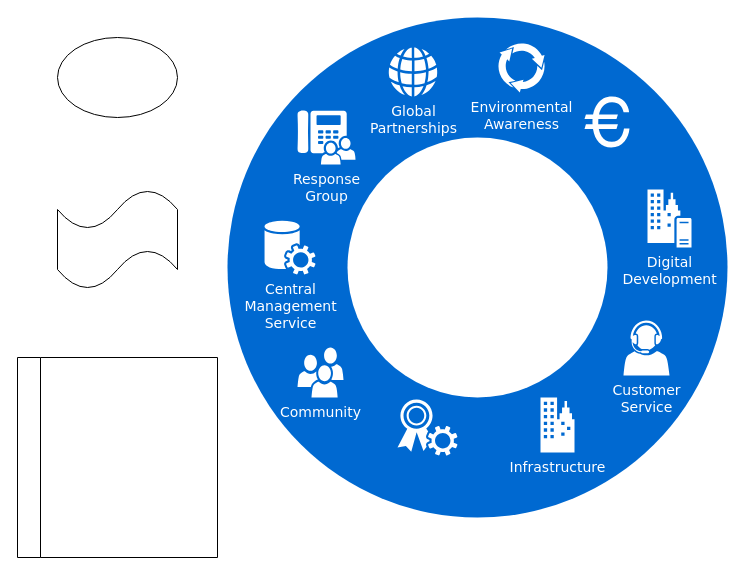
This 745x575 diagram has some shape labels left out. The centre of each missing label's shape, as x and y in pixels:
"Enterprise Business Model" belongs at point (477, 267).
"Finance" belongs at point (606, 121).
"Horizontal Container" belongs at point (117, 457).
"Technology Certificates" belongs at point (427, 427).
